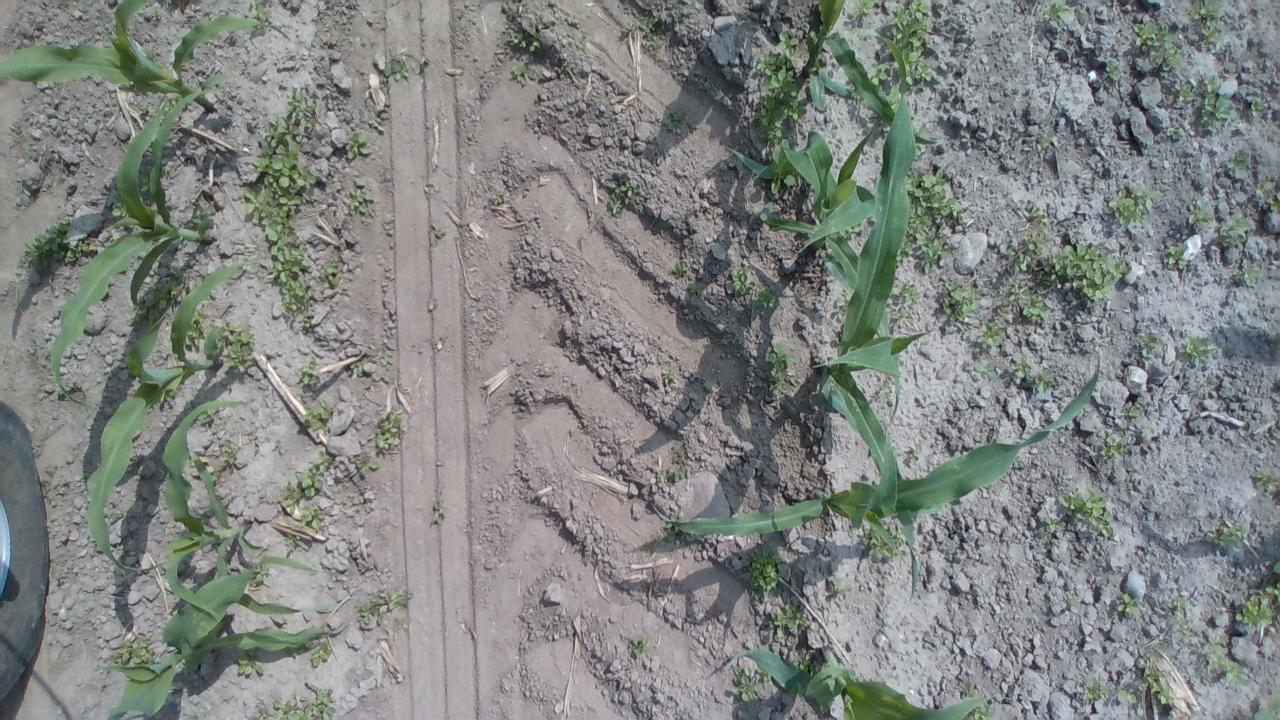Maize: (652, 355, 1102, 555), (48, 74, 234, 409), (87, 258, 258, 573), (822, 52, 919, 596), (724, 129, 902, 425), (103, 556, 346, 720), (164, 399, 328, 625), (0, 0, 290, 114), (800, 0, 940, 148), (727, 650, 984, 720)
Weeds: (240, 94, 320, 330), (1006, 231, 1131, 304), (902, 168, 964, 274), (748, 30, 804, 145), (886, 0, 937, 87), (128, 268, 193, 330), (1092, 179, 1160, 225), (1056, 488, 1113, 538), (286, 450, 330, 512), (255, 687, 336, 720), (1132, 22, 1184, 72), (743, 550, 786, 602), (18, 222, 68, 266), (1198, 76, 1234, 134), (764, 344, 801, 400), (1235, 582, 1280, 628), (996, 284, 1048, 322), (1187, 0, 1227, 49), (941, 277, 980, 321), (358, 592, 407, 626), (1206, 640, 1244, 683), (729, 666, 771, 703), (223, 325, 254, 374), (862, 526, 908, 558), (343, 124, 383, 160), (1140, 664, 1175, 704), (1204, 524, 1249, 555), (770, 602, 806, 638), (112, 637, 154, 667), (606, 181, 637, 219), (300, 399, 332, 432), (376, 410, 402, 450), (1180, 336, 1218, 363), (350, 183, 380, 216), (1166, 598, 1192, 636), (1218, 218, 1252, 246), (321, 255, 344, 294), (1082, 676, 1112, 705), (183, 305, 203, 348), (1187, 202, 1214, 232), (976, 320, 1006, 346), (730, 266, 756, 296), (1039, 0, 1072, 23), (790, 650, 819, 676), (1253, 693, 1280, 720), (237, 648, 265, 674), (299, 504, 325, 532), (1098, 435, 1128, 458), (644, 15, 664, 49), (381, 54, 408, 79), (67, 239, 96, 262), (1254, 467, 1280, 492), (250, 0, 272, 29), (1117, 593, 1142, 617), (300, 354, 320, 384), (1031, 369, 1054, 395), (755, 286, 778, 312), (1038, 518, 1066, 538), (974, 359, 998, 382), (1166, 244, 1188, 269), (656, 466, 688, 483), (310, 644, 332, 668), (829, 576, 853, 598), (1174, 78, 1196, 102), (852, 0, 881, 18), (770, 174, 796, 194), (866, 62, 888, 85), (1023, 207, 1047, 228), (912, 126, 930, 154), (1240, 262, 1261, 286), (1137, 334, 1162, 354), (1009, 357, 1032, 378), (901, 280, 921, 304), (250, 564, 272, 585), (896, 241, 912, 269), (884, 86, 900, 112), (630, 638, 650, 658), (1036, 132, 1056, 152), (896, 304, 914, 326), (969, 703, 992, 720), (111, 200, 130, 219), (842, 222, 862, 240), (1230, 152, 1248, 172), (511, 64, 528, 84), (838, 291, 852, 315), (431, 223, 445, 247), (527, 32, 543, 53), (1250, 96, 1266, 117), (222, 444, 238, 465), (1118, 690, 1138, 706), (686, 280, 706, 296), (1254, 182, 1274, 198), (758, 202, 775, 220), (200, 406, 218, 423), (162, 96, 180, 113), (662, 369, 679, 386), (511, 31, 528, 48), (1104, 63, 1120, 81), (1128, 406, 1146, 421), (670, 262, 689, 276), (668, 111, 682, 130), (1269, 192, 1280, 216), (432, 504, 444, 526), (360, 462, 380, 475), (138, 173, 150, 194), (1063, 593, 1079, 608), (138, 102, 156, 115), (287, 534, 301, 550), (960, 682, 975, 696), (910, 448, 924, 463), (192, 207, 206, 222), (142, 47, 156, 62), (1168, 127, 1184, 140), (55, 382, 73, 393), (350, 360, 363, 375), (877, 384, 892, 397), (85, 400, 99, 413), (214, 328, 224, 346), (622, 21, 638, 32), (1140, 424, 1152, 438), (151, 7, 162, 21), (289, 647, 304, 657), (382, 350, 391, 366), (490, 191, 503, 202), (884, 297, 892, 313), (1271, 560, 1280, 574), (304, 640, 316, 650), (1203, 381, 1215, 391), (164, 391, 174, 402), (560, 62, 572, 71), (116, 511, 128, 519), (351, 492, 359, 503), (209, 472, 218, 481), (880, 120, 889, 128), (160, 114, 166, 123), (164, 0, 172, 5)
